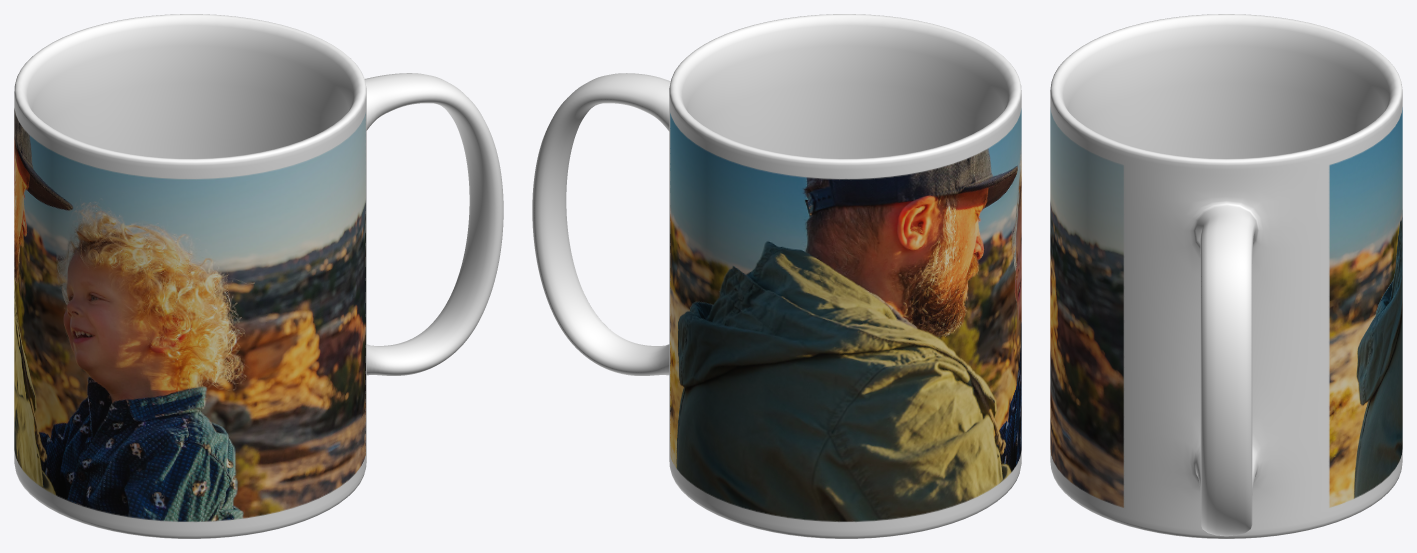
Rendered from mug.glb.
3 views of the same model, side by side, from view 1: azimuth 30°, elevation 25°; view 2: azimuth 150°, elevation 25°; view 3: azimuth 270°, elevation 25° (orthographic).
Visible parts, largest first — view 1: Mug Front-View; view 2: Mug Front-View; view 3: Mug Front-View.
Boxes of the visible parts, x1,y1,x2,y2 form: Mug Front-View: (14, 14, 503, 538); Mug Front-View: (532, 14, 1021, 538); Mug Front-View: (1050, 14, 1402, 538).
Size of the model in its own units: 1.12 by 0.8832 by 0.7437.
1 material, 1 textured.
